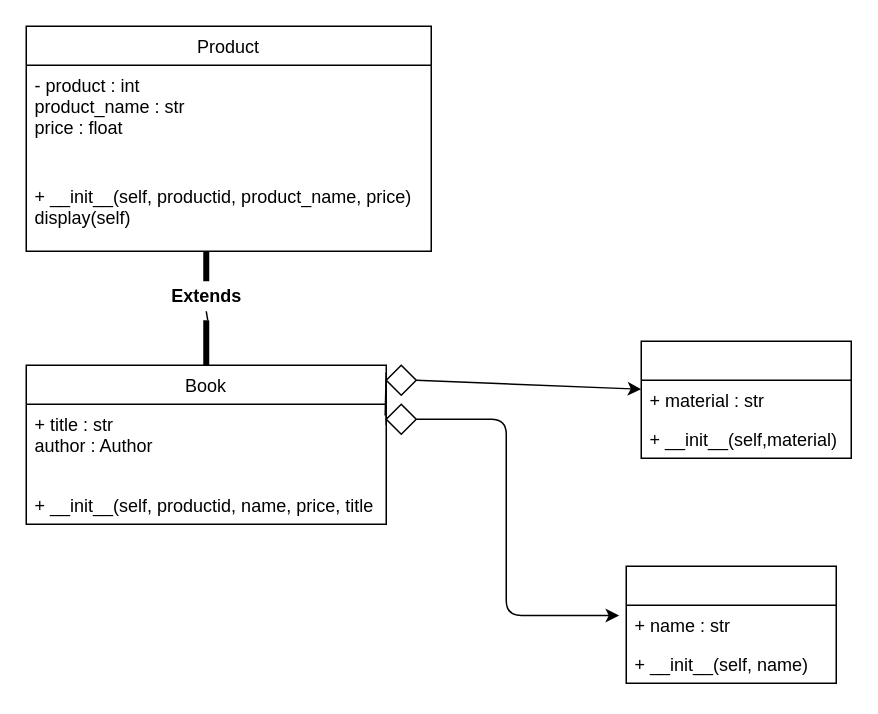
Some shapes in this 878 by 714 pixel diagram are drawn without their labels. The box of each missing label's shape, as (x1, y1, x2, y2) in pixels:
Author: (625, 565, 836, 683)
Cover: (640, 340, 851, 458)
